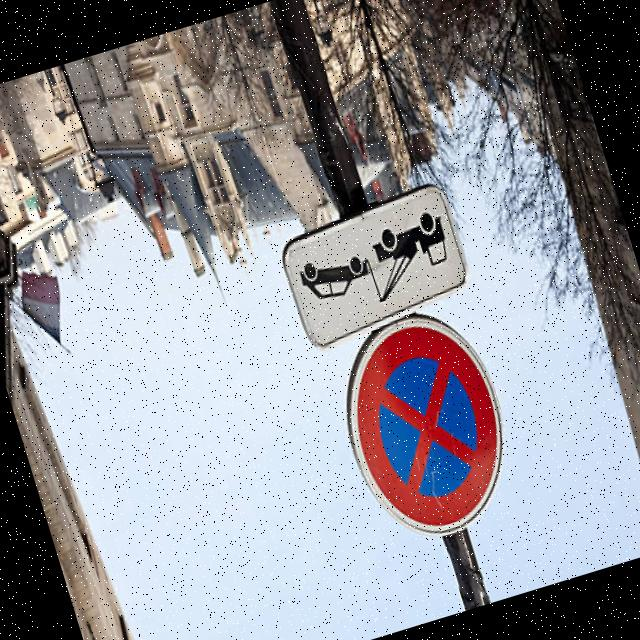no_parking: (311, 294, 538, 558)
